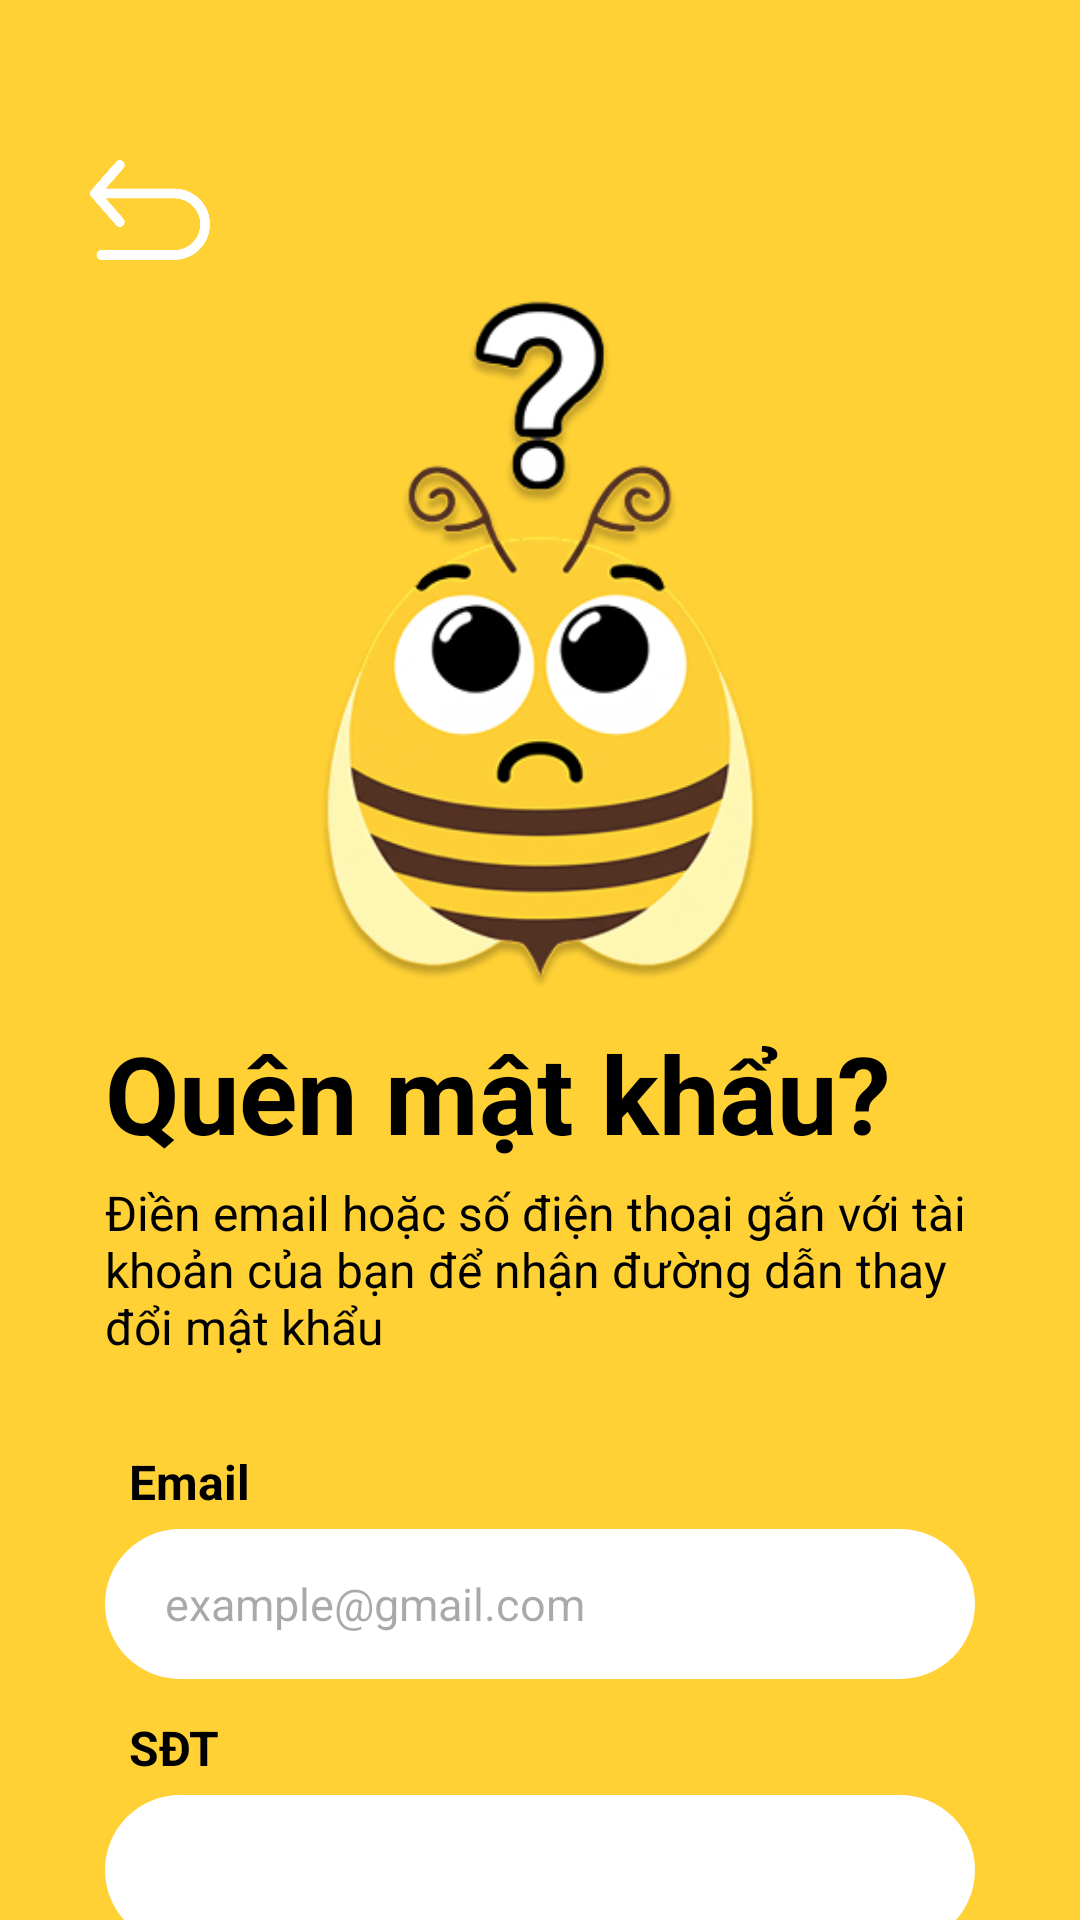

Locate icon controls on the screen. Image size 1080px×1920px, boxes as (x1, y1, x2, y2).
back: (90, 160, 210, 260)
